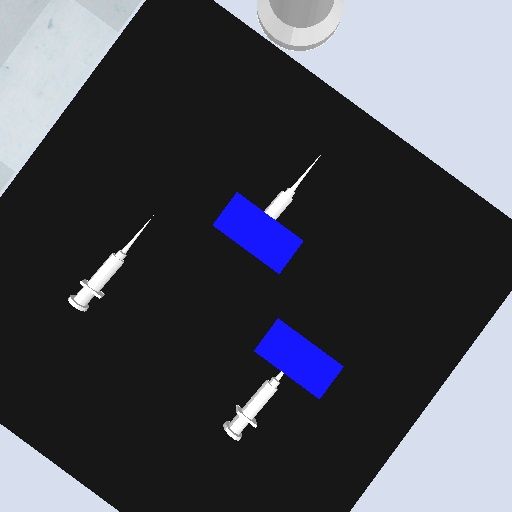jeringuilla: (65, 213, 157, 315), (220, 369, 287, 443), (261, 152, 326, 223)
